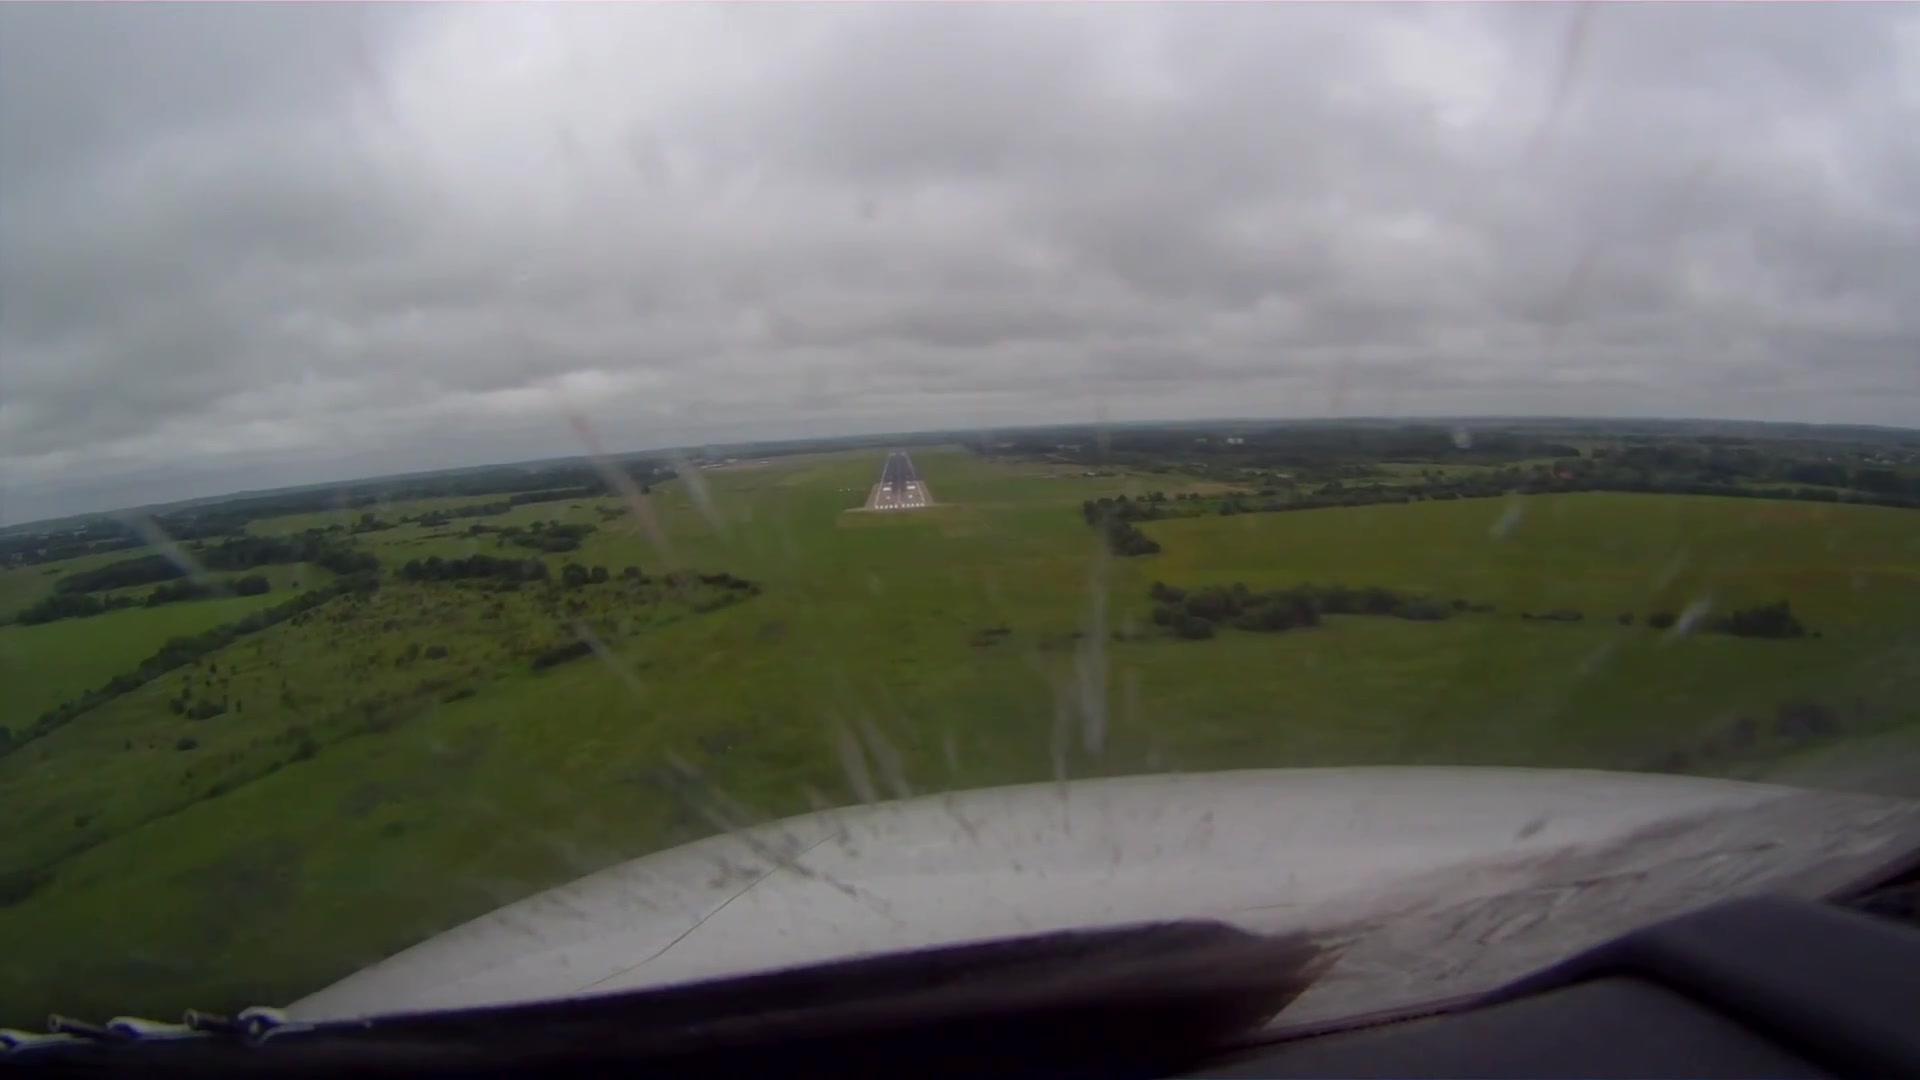entrance: (874, 502, 923, 510)
runway: (873, 448, 928, 513)
